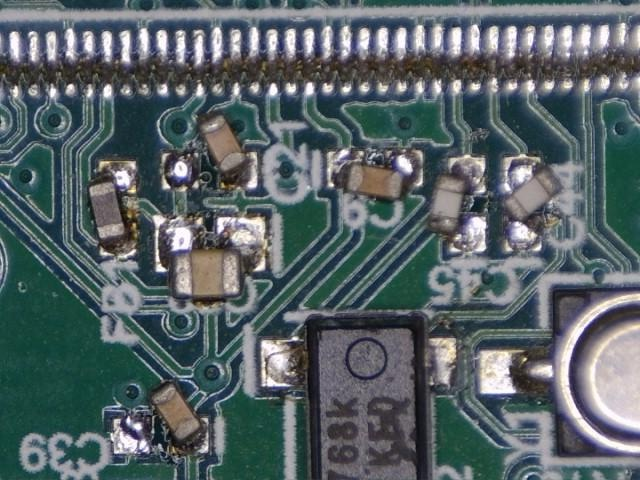pcb_defect: (151, 214, 267, 300), (160, 112, 258, 191), (110, 381, 210, 456), (498, 154, 567, 254), (425, 153, 488, 255), (86, 158, 139, 257), (326, 148, 424, 199)
